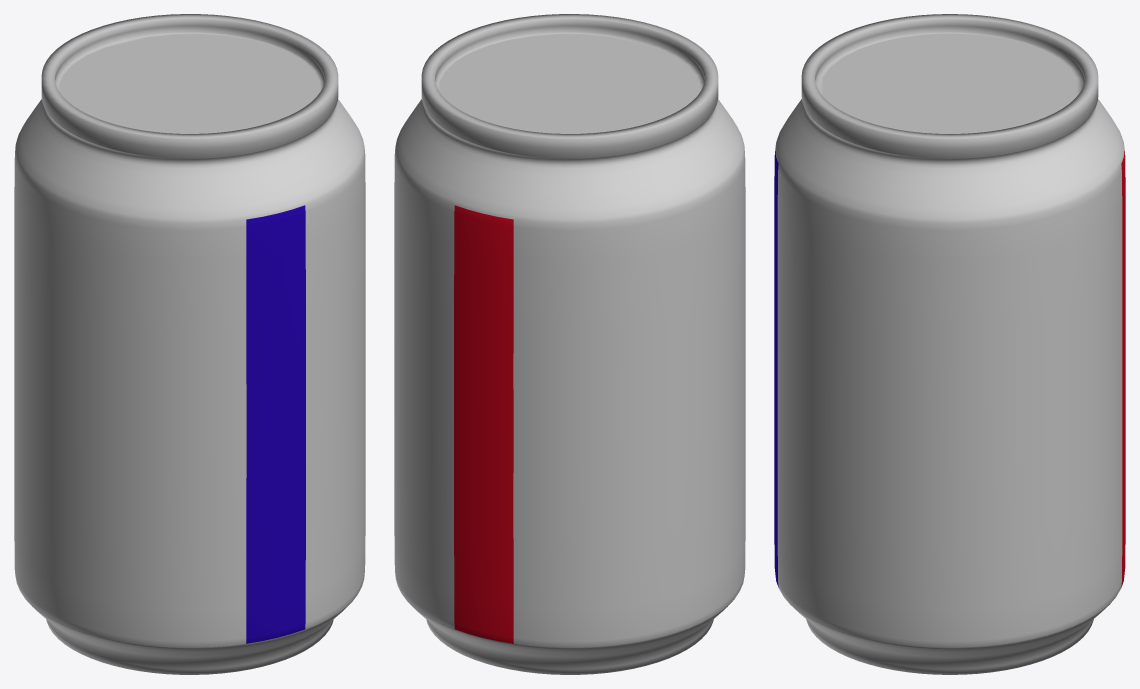
The model's file is can.glb.
3 views of the same model, side by side, from view 1: azimuth 30°, elevation 25°; view 2: azimuth 150°, elevation 25°; view 3: azimuth 270°, elevation 25° (orthographic).
Visible parts, largest first — view 1: 円柱; view 2: 円柱; view 3: 円柱.
Boxes of the visible parts, x1,y1,x2,y2 form: 円柱: [14, 14, 365, 674]; 円柱: [394, 14, 745, 674]; 円柱: [774, 14, 1125, 674].
Bounding box in the file's own units: 3.6 × 6.07 × 3.6.
